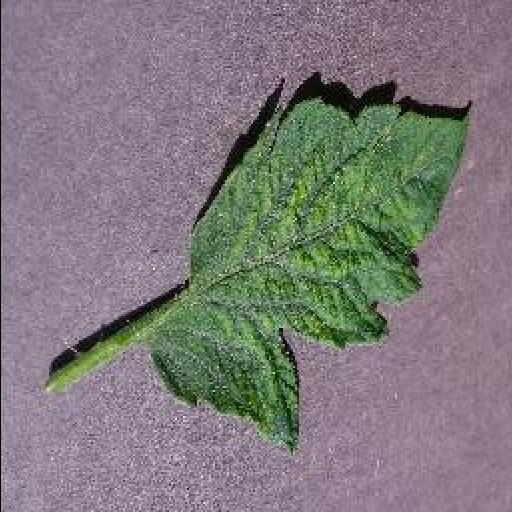Mosaic Virus: (144, 89, 476, 455)
